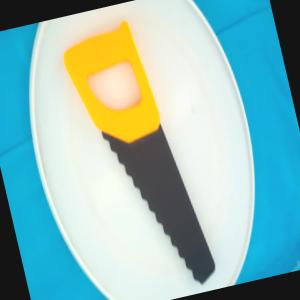serrote: (57, 11, 218, 300)
